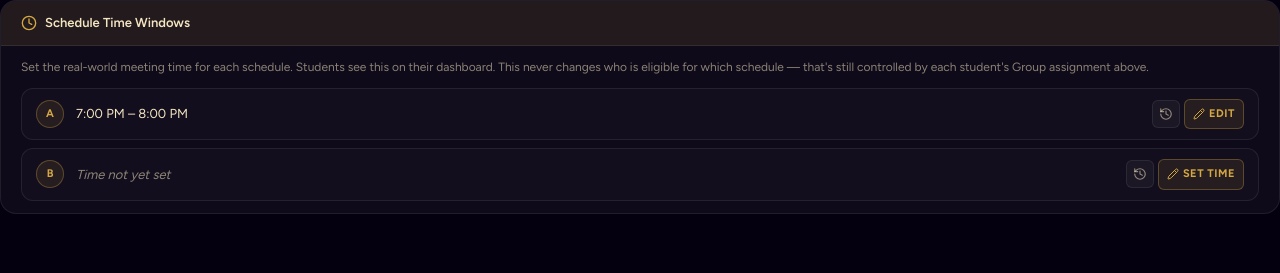
Scenario: History toggle fetches and displays the real audit trail for that label only
This screenshot has width=1280, height=273.
Click the button with test id "schedule-time-window-history-toggle-A" at (1166, 114), box [1152,100,1180,128]
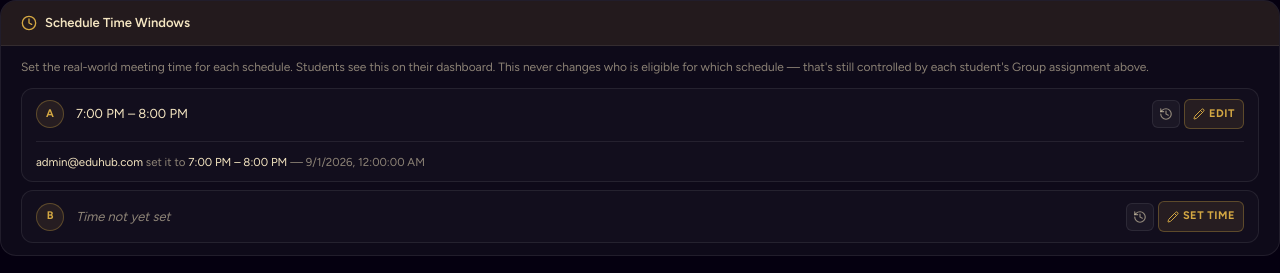
Result: the element with test id "schedule-time-window-history-A" shows "admin@eduhub.com" at [36,155,143,169]
Result: the element with test id "schedule-time-window-history-A" shows "7:00 PM – 8:00 PM" at [188,155,287,169]
